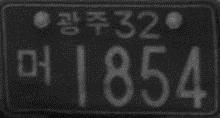1: (74, 43, 88, 110)
2: (137, 10, 161, 42)
3: (112, 9, 135, 39)
4: (176, 45, 208, 110)
5: (139, 45, 171, 107)
8: (102, 45, 135, 107)
광주_O: (57, 11, 109, 35)
머: (16, 44, 51, 88)
